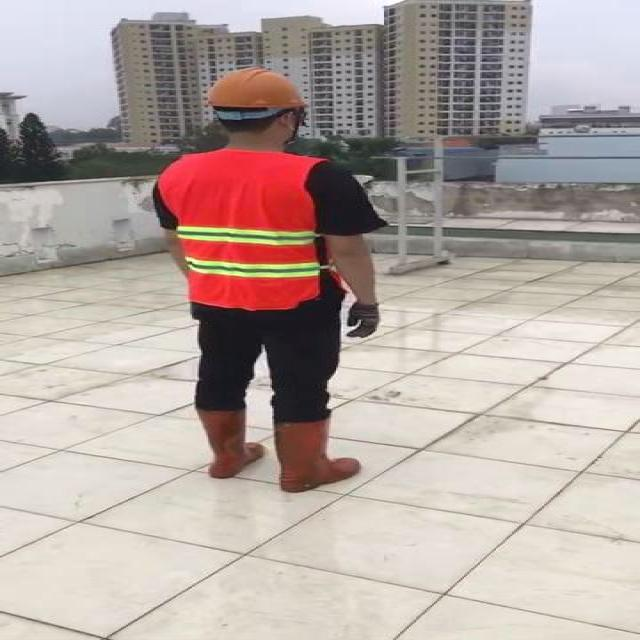boots: (272, 413, 364, 494), (195, 406, 264, 482)
hand_glove: (345, 299, 380, 341)
person: (148, 60, 391, 499), (205, 63, 311, 112)
vest: (160, 150, 343, 309)
